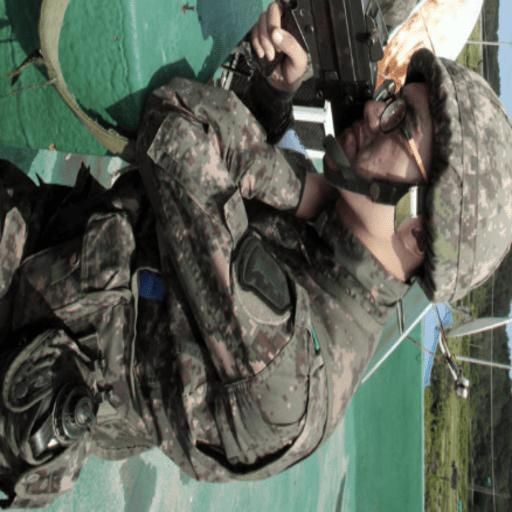korea army: (13, 187, 417, 503), (20, 77, 321, 495), (415, 45, 507, 320)
